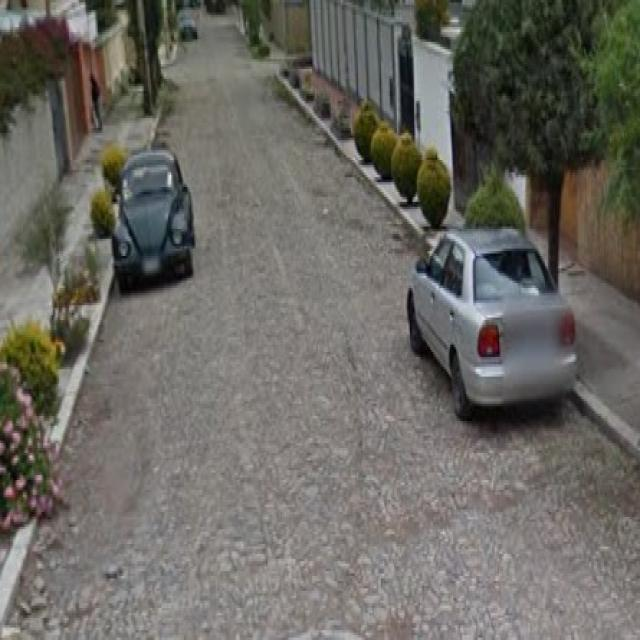cars: (405, 225, 579, 413), (110, 153, 194, 279)
